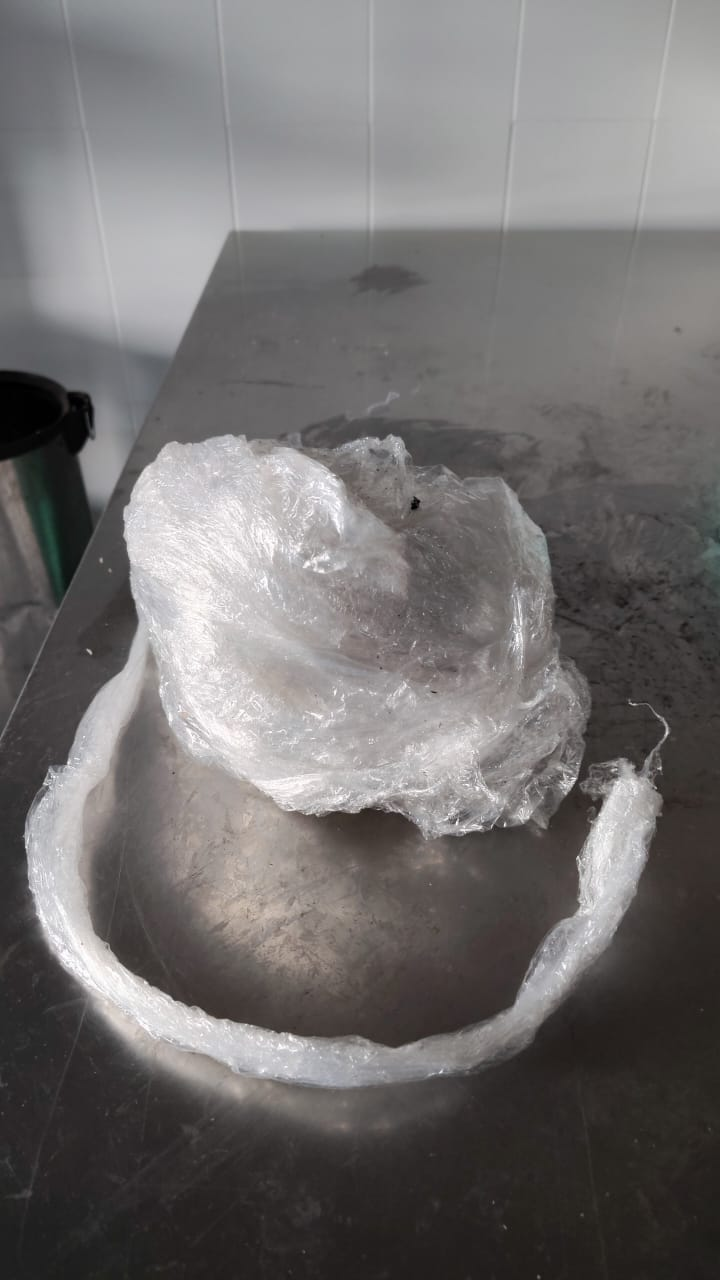Plastico: (25, 436, 659, 1089)
